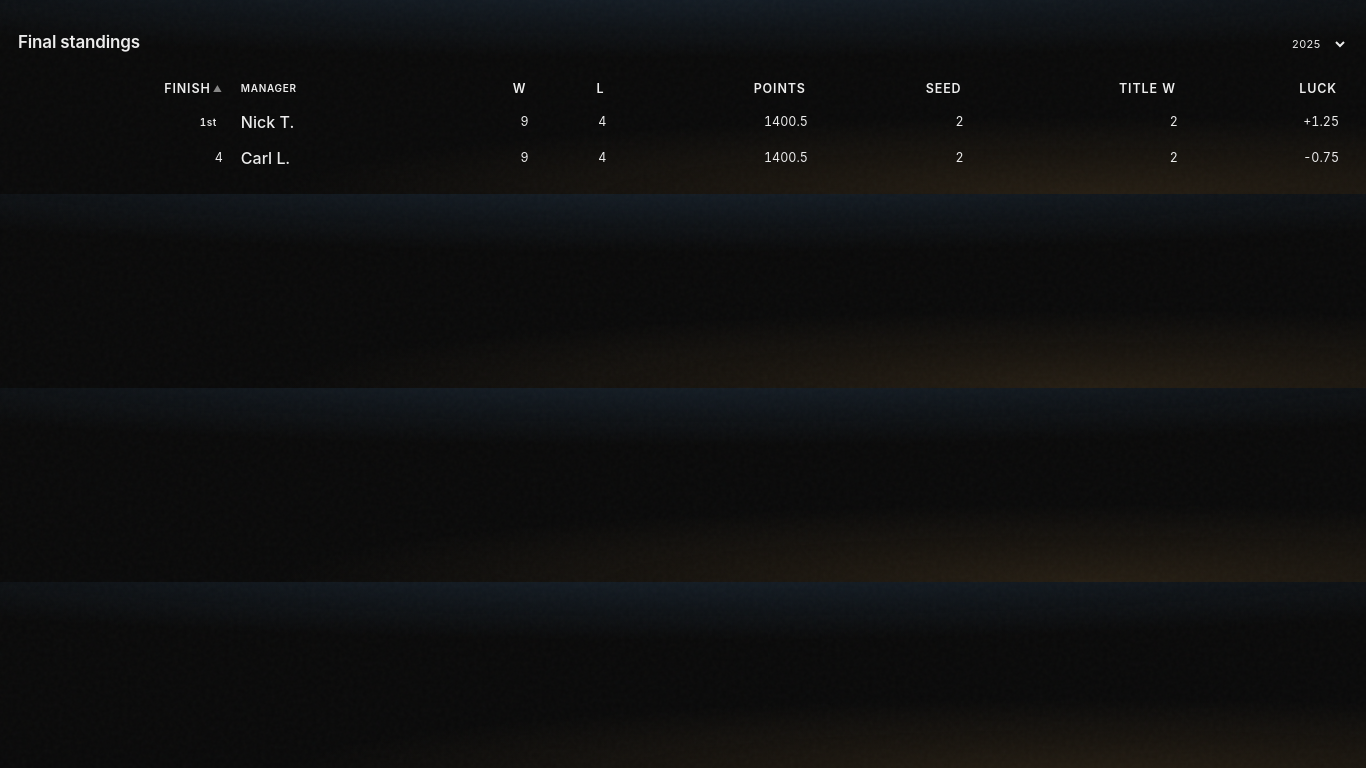
it: SeasonStandings › swaps the rows when another season is picked
Select "2024" in the dropdown at (1313, 44), box x1=1278 y1=30 x2=1348 y2=58
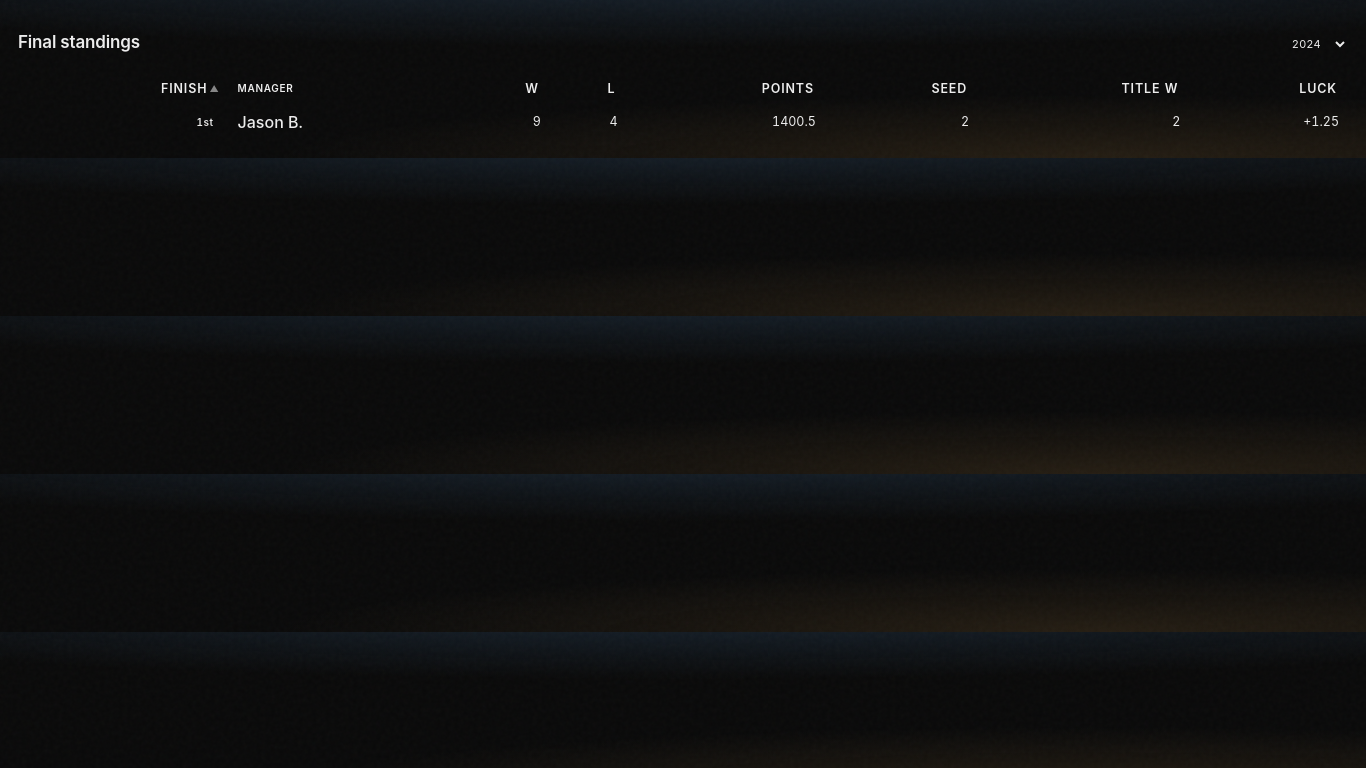
Expected: the text "Jason B." is shown, x1=229 y1=104 x2=457 y2=140
Expected: the text "Nick T." is gone
